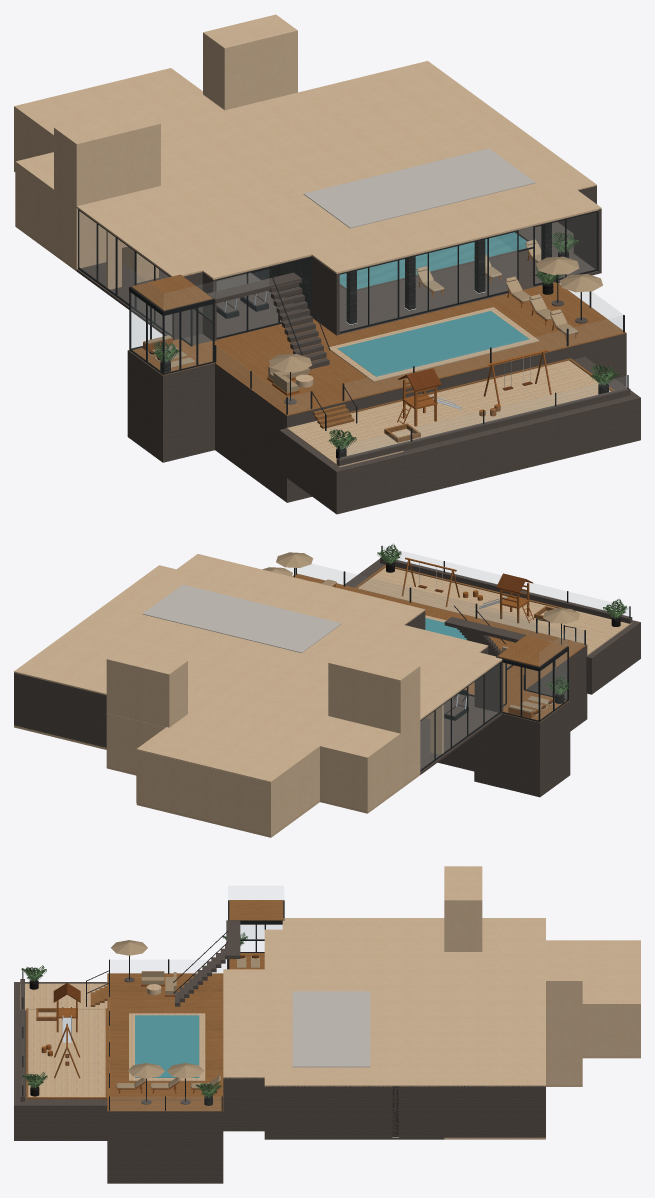
Rendered from interior.glb.
3 renders of one model, top to bottom at view 1: azimuth 30°, elevation 25°; view 2: azimuth 150°, elevation 25°; view 3: azimuth 270°, elevation 25°, orthographic. The views are drawn at different scales.
Visible parts, largest first — view 1: ivory, basalt, teak, limestone, satin, water, frame, linen, nero, glass, oak, leaf; view 2: ivory, basalt, limestone, satin, teak, frame, glass, linen, oak, leaf, walnut, water; view 3: ivory, basalt, teak, limestone, satin, water, linen, frame, oak, leaf, nero.
Boxes of the visible parts, x1=… form: ivory: x1=14, y1=14, x2=601, y2=289; basalt: x1=76, y1=186, x2=640, y2=514; teak: x1=129, y1=274, x2=626, y2=442; limestone: x1=14, y1=169, x2=611, y2=467; satin: x1=303, y1=148, x2=535, y2=228; water: x1=337, y1=232, x2=529, y2=376; frame: x1=78, y1=209, x2=628, y2=459; linen: x1=143, y1=239, x2=602, y2=392; nero: x1=160, y1=223, x2=608, y2=458; glass: x1=130, y1=269, x2=622, y2=348; oak: x1=143, y1=251, x2=577, y2=426; leaf: x1=152, y1=231, x2=618, y2=449; ivory: x1=14, y1=554, x2=502, y2=835; basalt: x1=14, y1=557, x2=640, y2=797; limestone: x1=14, y1=567, x2=632, y2=837; satin: x1=143, y1=584, x2=341, y2=652; teak: x1=292, y1=565, x2=587, y2=722; frame: x1=294, y1=545, x2=630, y2=771; glass: x1=464, y1=609, x2=584, y2=705; linen: x1=262, y1=552, x2=579, y2=715; oak: x1=332, y1=557, x2=534, y2=718; leaf: x1=377, y1=543, x2=627, y2=695; walnut: x1=418, y1=573, x2=552, y2=714; water: x1=425, y1=618, x2=466, y2=639; ivory: x1=223, y1=866, x2=640, y2=1086; basalt: x1=14, y1=920, x2=545, y2=1183; teak: x1=26, y1=900, x2=283, y2=1111; limestone: x1=20, y1=983, x2=640, y2=1139; satin: x1=292, y1=991, x2=370, y2=1067; water: x1=135, y1=1015, x2=199, y2=1077; linen: x1=111, y1=940, x2=259, y2=1088; frame: x1=22, y1=900, x2=284, y2=1110; oak: x1=41, y1=979, x2=219, y2=1093; leaf: x1=21, y1=932, x2=247, y2=1097; nero: x1=29, y1=980, x2=398, y2=1136.
Bounding box in the file's own units: 28.78 × 12.66 × 40.78.
Materials: 18 (10 with a texture image).
